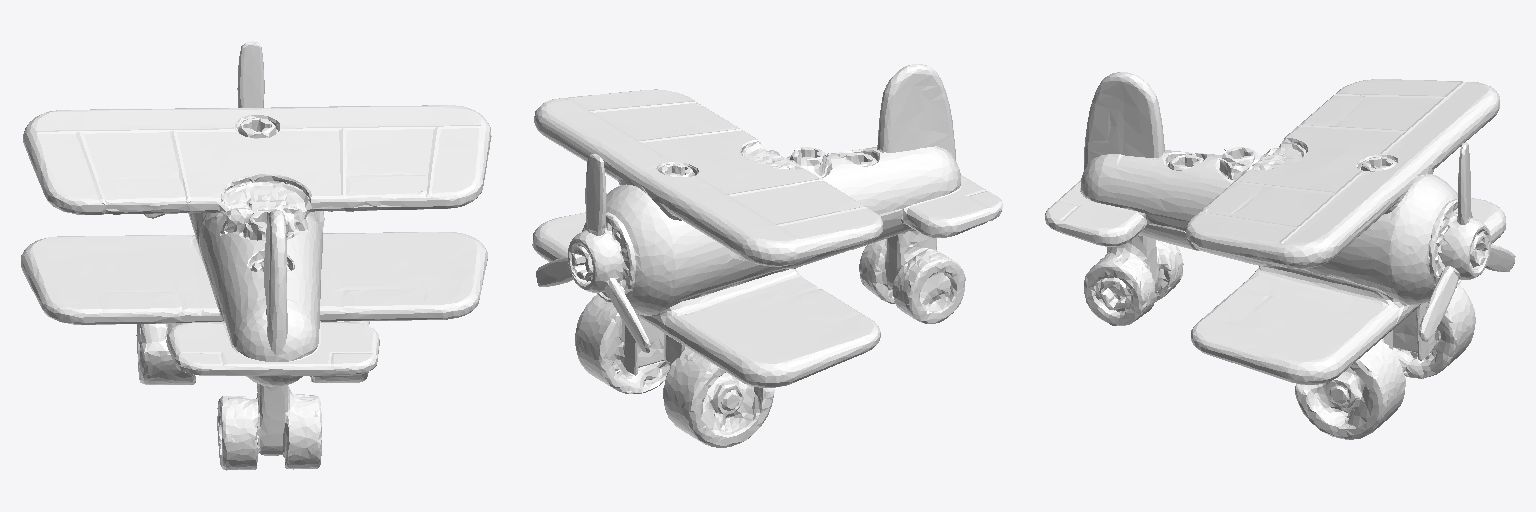
URDF robot description (a_toy_airplane):
<robot name="a_toy_airplane">
    <link name="base_link">
        <visual>
            <origin xyz="-0.0 0.0 0.0" rpy="0.0 0.0 0.0" />
            <geometry>
                <mesh filename="a_toy_airplane/textured.obj" scale="1 1 1" />
            </geometry>
            <material name="texture">
                <color rgba="1.0 1.0 1.0 1.0" />
            </material>
        </visual>
        <collision>
            <origin xyz="-0.0 0.0 0.0" rpy="0.0 0.0 0.0" />
            <geometry>
                <mesh filename="a_toy_airplane/textured_coacd_0.stl" scale="1 1 1" />
            </geometry>
        </collision>
        <collision>
            <origin xyz="-0.0 0.0 0.0" rpy="0.0 0.0 0.0" />
            <geometry>
                <mesh filename="a_toy_airplane/textured_coacd_1.stl" scale="1 1 1" />
            </geometry>
        </collision>
        <collision>
            <origin xyz="-0.0 0.0 0.0" rpy="0.0 0.0 0.0" />
            <geometry>
                <mesh filename="a_toy_airplane/textured_coacd_2.stl" scale="1 1 1" />
            </geometry>
        </collision>
        <collision>
            <origin xyz="-0.0 0.0 0.0" rpy="0.0 0.0 0.0" />
            <geometry>
                <mesh filename="a_toy_airplane/textured_coacd_3.stl" scale="1 1 1" />
            </geometry>
        </collision>
        <collision>
            <origin xyz="-0.0 0.0 0.0" rpy="0.0 0.0 0.0" />
            <geometry>
                <mesh filename="a_toy_airplane/textured_coacd_4.stl" scale="1 1 1" />
            </geometry>
        </collision>
        <inertial>
            <mass value="0.114" />
            <inertia ixx="1e-3" ixy="0.0" ixz="0.0" iyy="1e-3" iyz="0.0" izz="1e-3" />
        </inertial>
    </link>
</robot>

--- Facts derived from the render (not from the file) ---
Views: 3 orthographic renders of the robot side by side, from view 1: azimuth 30°, elevation 25°; view 2: azimuth 150°, elevation 25°; view 3: azimuth 270°, elevation 25°.
Model a_toy_airplane with 1 links and 0 joints (none), rooted at base_link, posed all joints at 0.
Links seen in each view (by area): view 1: base_link; view 2: base_link; view 3: base_link.
Boxes of the visible links, x1,y1,x2,y2 form: base_link: [21, 41, 491, 470]; base_link: [532, 64, 1002, 447]; base_link: [1045, 72, 1515, 439].
Bounding box of the posed robot: 0.2498 × 0.2749 × 0.1774 m (x, y, z).
1 mesh visuals loaded from 1 distinct referenced files (1 OBJ).